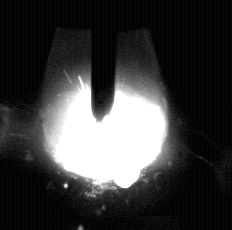arame: (92, 0, 116, 123)
poca: (41, 0, 169, 230)
